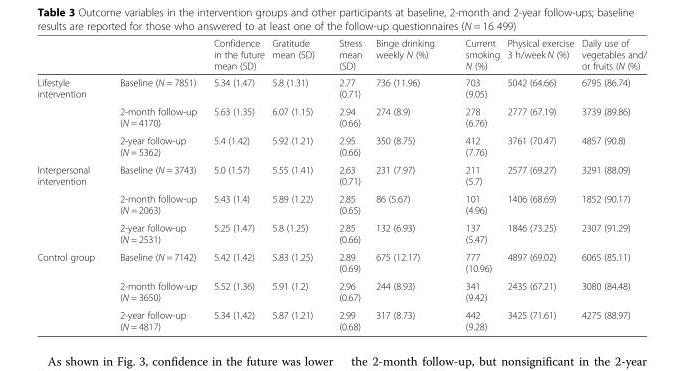table: (36, 37, 646, 331)
table column: (106, 37, 204, 331), (368, 37, 449, 331), (502, 37, 577, 331), (36, 37, 106, 331), (577, 37, 646, 331), (204, 37, 267, 331), (267, 37, 326, 331), (449, 37, 502, 331), (326, 37, 368, 331)
table column header: (36, 37, 646, 73)
table row: (36, 37, 646, 73), (36, 73, 646, 102), (36, 102, 646, 131), (36, 131, 646, 160), (36, 160, 646, 189), (36, 189, 646, 218), (36, 218, 646, 247), (36, 247, 646, 276), (36, 276, 646, 305), (36, 305, 646, 331)
table spanning cell: (36, 73, 106, 160), (36, 160, 106, 247), (36, 247, 106, 331)
